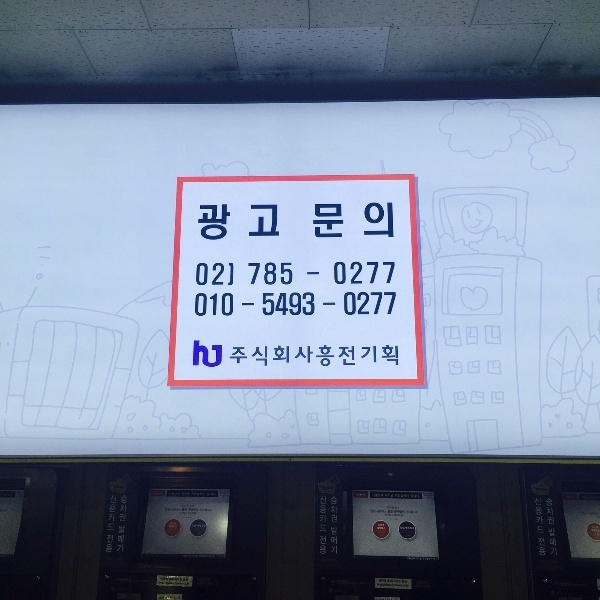text: (321, 194, 336, 250), (337, 194, 352, 250), (353, 194, 368, 250), (369, 194, 384, 250), (385, 194, 398, 250), (209, 197, 224, 245), (225, 197, 240, 245), (241, 197, 256, 245), (257, 197, 272, 245), (193, 338, 208, 374), (209, 338, 224, 374), (197, 197, 208, 245), (311, 194, 320, 250), (337, 257, 352, 290), (353, 257, 368, 290), (369, 257, 384, 290), (273, 197, 283, 245), (209, 261, 224, 292), (257, 260, 272, 290), (273, 260, 288, 290), (209, 292, 224, 321), (273, 290, 288, 319), (289, 290, 304, 319), (241, 342, 256, 371), (257, 342, 272, 371), (273, 342, 288, 371), (305, 341, 320, 370), (321, 341, 336, 370), (337, 341, 352, 370), (353, 341, 368, 370), (369, 341, 384, 370), (385, 341, 400, 370), (353, 290, 368, 318), (369, 290, 384, 318), (194, 292, 208, 321), (195, 261, 208, 292), (547, 528, 560, 559), (385, 257, 397, 290), (385, 290, 399, 318), (534, 498, 544, 536), (305, 290, 318, 319), (225, 261, 237, 292), (321, 494, 330, 534), (545, 497, 557, 527), (261, 290, 272, 319), (246, 260, 256, 290), (241, 296, 256, 316), (118, 526, 128, 556), (230, 342, 240, 371), (294, 341, 304, 370), (353, 579, 369, 597), (342, 290, 352, 318), (305, 267, 320, 285), (337, 579, 352, 597), (225, 292, 234, 321), (120, 495, 128, 525), (321, 297, 336, 312), (330, 491, 336, 527), (289, 260, 296, 290), (385, 505, 400, 519), (401, 505, 416, 519), (321, 535, 329, 561), (370, 505, 384, 519), (113, 495, 118, 534), (321, 484, 336, 497), (385, 578, 400, 591), (113, 484, 128, 496), (161, 576, 176, 587), (177, 576, 192, 587), (331, 527, 336, 559), (537, 537, 544, 559), (374, 523, 384, 538), (105, 534, 112, 555), (401, 525, 417, 534), (401, 578, 412, 591), (197, 576, 208, 589), (385, 492, 400, 501), (401, 492, 416, 501), (417, 580, 432, 589), (332, 257, 336, 290), (371, 492, 384, 501), (289, 342, 293, 371), (593, 525, 600, 541), (337, 491, 340, 527), (376, 578, 384, 591), (535, 485, 544, 496), (337, 527, 340, 559), (355, 493, 368, 500), (417, 556, 432, 562), (331, 579, 336, 597), (582, 511, 592, 519), (317, 535, 320, 561), (581, 495, 592, 502), (177, 507, 192, 512), (193, 507, 208, 512), (193, 555, 208, 560), (561, 582, 576, 587), (190, 338, 192, 374), (565, 495, 576, 501), (545, 537, 548, 559), (193, 492, 206, 497), (209, 576, 214, 589), (588, 525, 592, 541), (119, 578, 128, 585), (385, 523, 389, 538), (406, 556, 416, 562), (193, 524, 207, 528), (593, 511, 600, 519), (165, 507, 176, 512), (545, 485, 550, 496), (577, 582, 588, 587), (321, 267, 324, 285), (417, 492, 423, 501), (179, 511, 192, 515), (182, 492, 192, 497), (182, 503, 192, 508), (169, 522, 176, 529), (593, 495, 600, 502), (152, 491, 160, 497), (219, 490, 224, 499), (225, 490, 230, 499), (183, 555, 192, 560), (113, 534, 115, 555), (169, 491, 176, 497), (238, 296, 240, 316), (209, 492, 217, 497), (319, 494, 320, 534), (552, 582, 560, 587), (111, 495, 112, 534), (545, 498, 546, 536), (225, 338, 226, 374), (433, 556, 439, 562), (209, 555, 216, 560), (337, 297, 339, 312), (177, 491, 182, 497), (401, 341, 402, 370), (129, 578, 133, 585), (417, 505, 419, 519), (158, 576, 160, 587), (257, 296, 258, 316), (193, 511, 198, 515), (161, 491, 164, 497), (209, 507, 212, 512), (319, 484, 320, 497), (193, 503, 195, 508), (415, 580, 416, 589), (177, 522, 178, 529), (207, 492, 208, 497), (191, 492, 192, 497), (191, 524, 192, 528)
